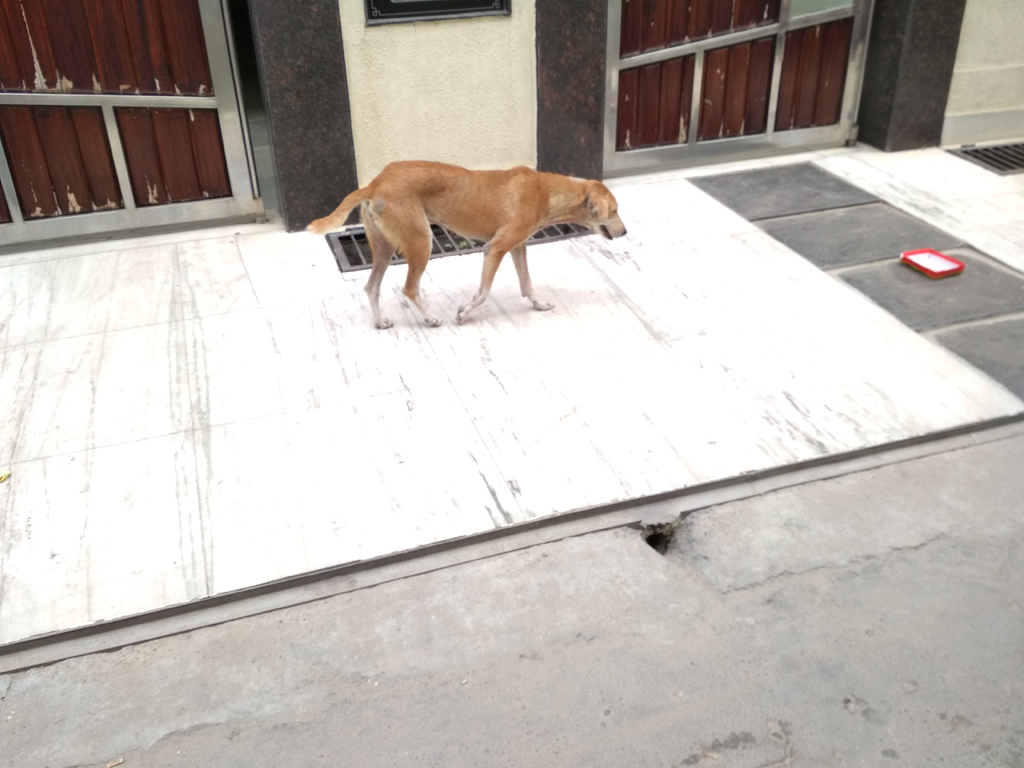dog: (306, 163, 628, 332)
